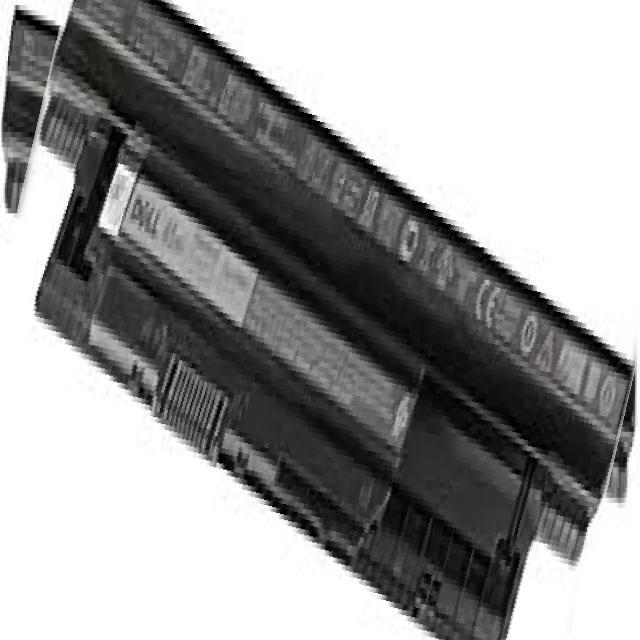Battery: (6, 0, 639, 639)
